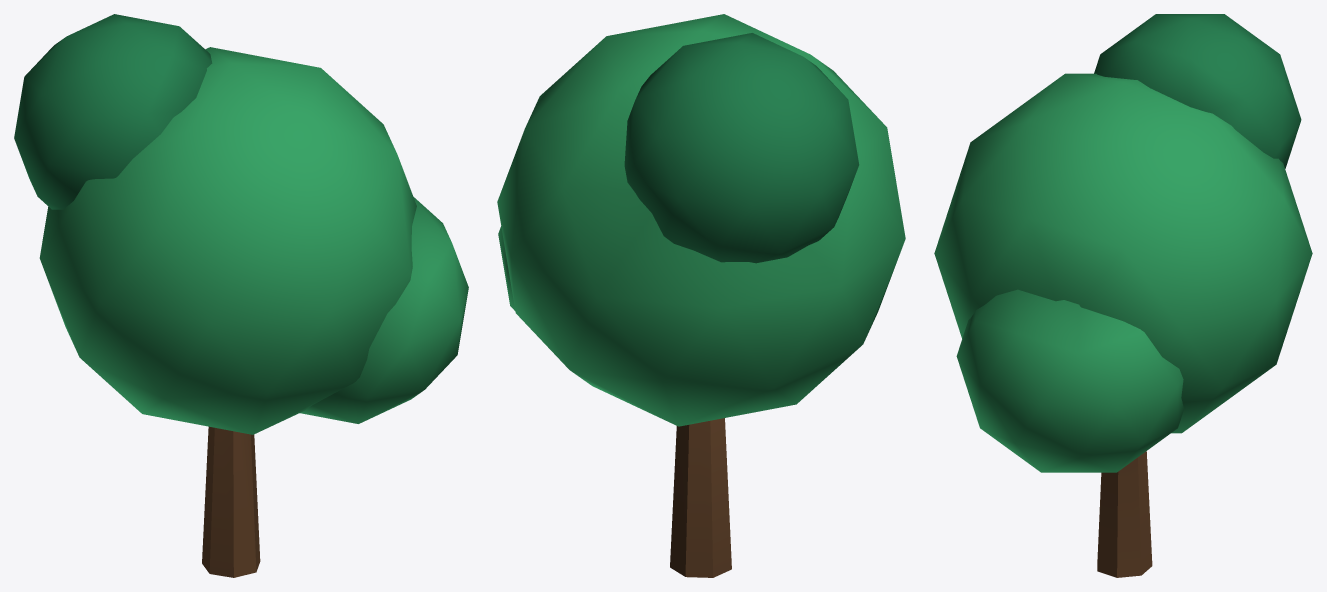
File: tree_a.glb
3 views of the same model, side by side, from view 1: azimuth 30°, elevation 25°; view 2: azimuth 150°, elevation 25°; view 3: azimuth 270°, elevation 25° (orthographic). The views are drawn at different scales.
Visible parts, largest first — view 1: tree_a; view 2: tree_a; view 3: tree_a.
Boxes of the visible parts, box(x1,y1,x2,y2) form: tree_a: box(14, 14, 468, 577); tree_a: box(497, 14, 905, 577); tree_a: box(934, 14, 1312, 577).
Bounding box in the file's own units: 1.8 × 2.55 × 1.7.
